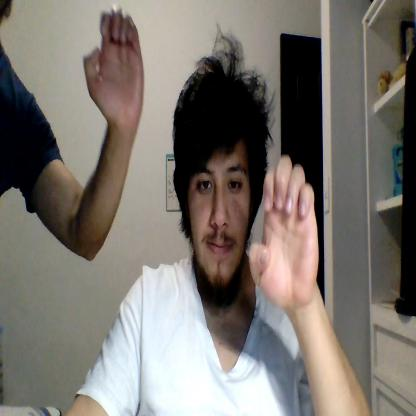E: (249, 154, 319, 307), (83, 2, 143, 125)
